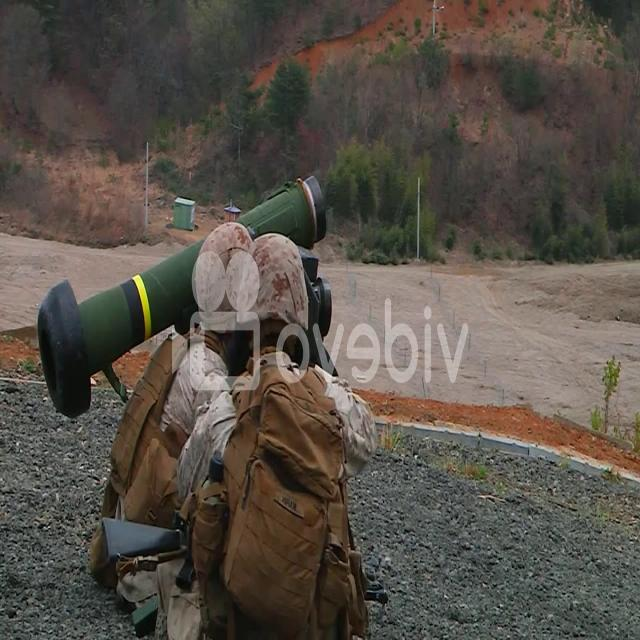rocket: (37, 171, 320, 413)
